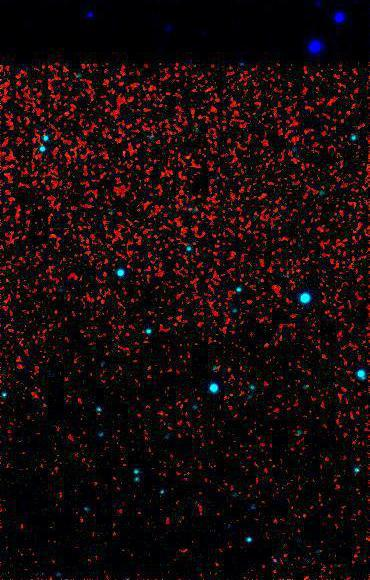star: (251, 330, 281, 360)
